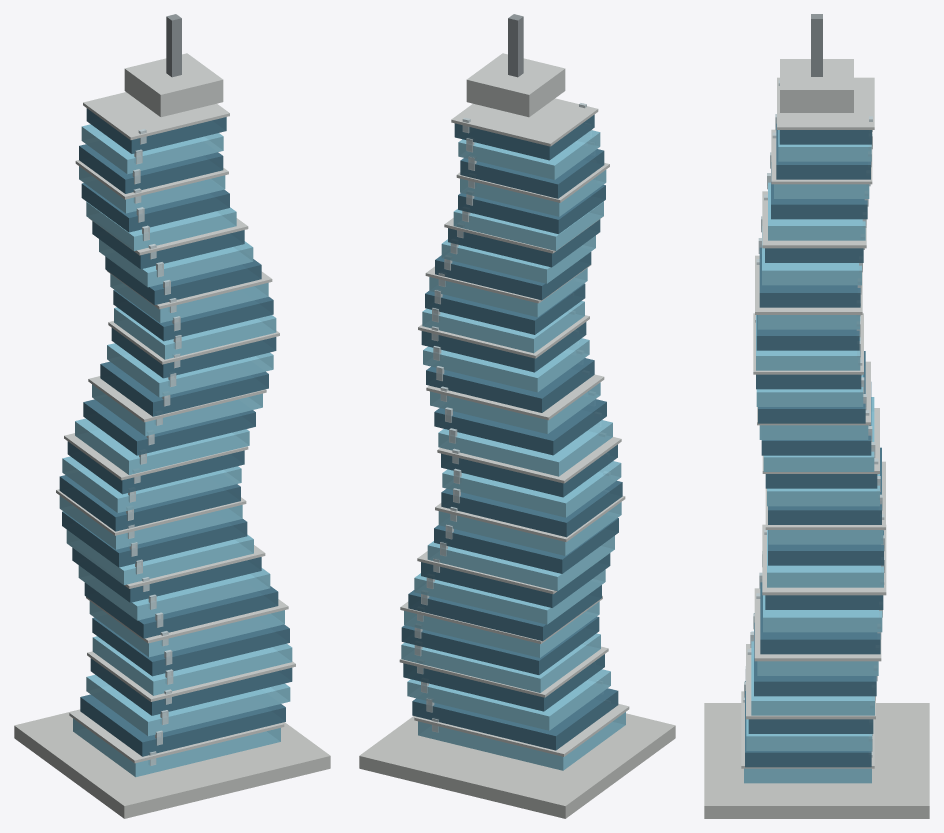
Rendered from voxel-shanghai-tower.gltf.
The picture shows the model from 3 angles, left to right: view 1: azimuth 30°, elevation 25°; view 2: azimuth 150°, elevation 25°; view 3: azimuth 270°, elevation 25°; orthographic projection. The views are drawn at different scales.
Size of the model in its own units: 2.7 by 9.2 by 2.5.
